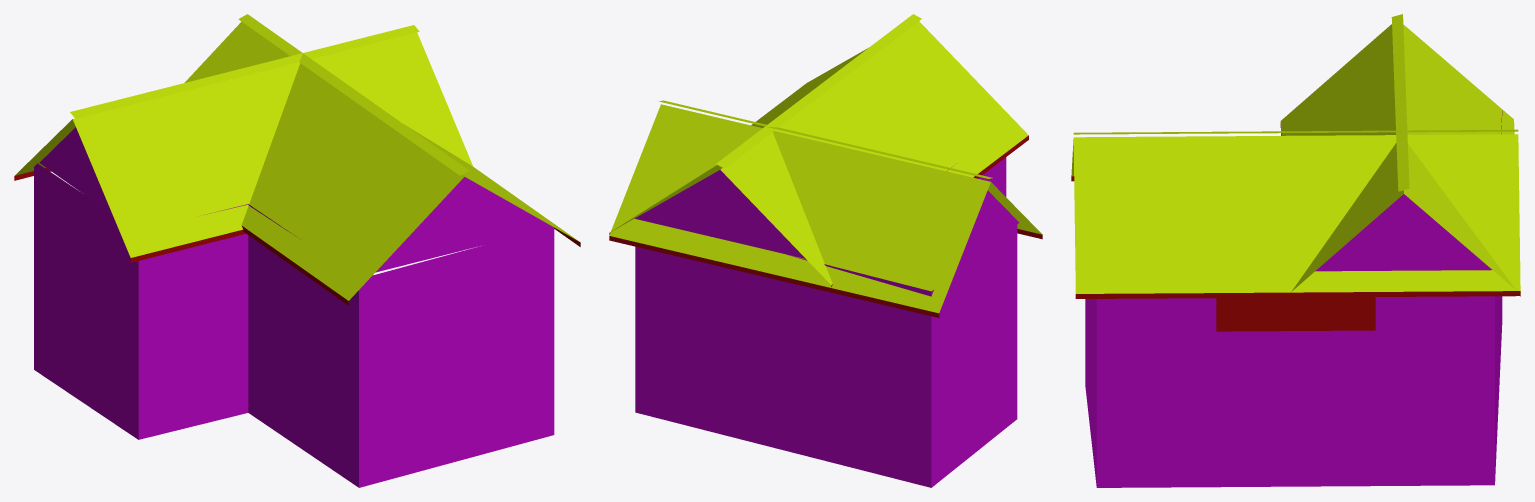
Rendered from lct_17.glb.
3 views of the same model, side by side, from view 1: azimuth 30°, elevation 25°; view 2: azimuth 150°, elevation 25°; view 3: azimuth 270°, elevation 25° (orthographic). The views are drawn at different scales.
Parts seen in each view (by area): view 1: lct_17; view 2: lct_17; view 3: lct_17.
Part boxes in pixels (<box>): lct_17: <box>14,14,580,487</box>; lct_17: <box>609,14,1042,487</box>; lct_17: <box>1071,14,1520,487</box>.
Size of the model in its own units: 8.99 by 7.2 by 9.6.
